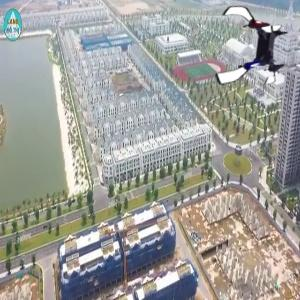drone: (207, 2, 296, 91)
